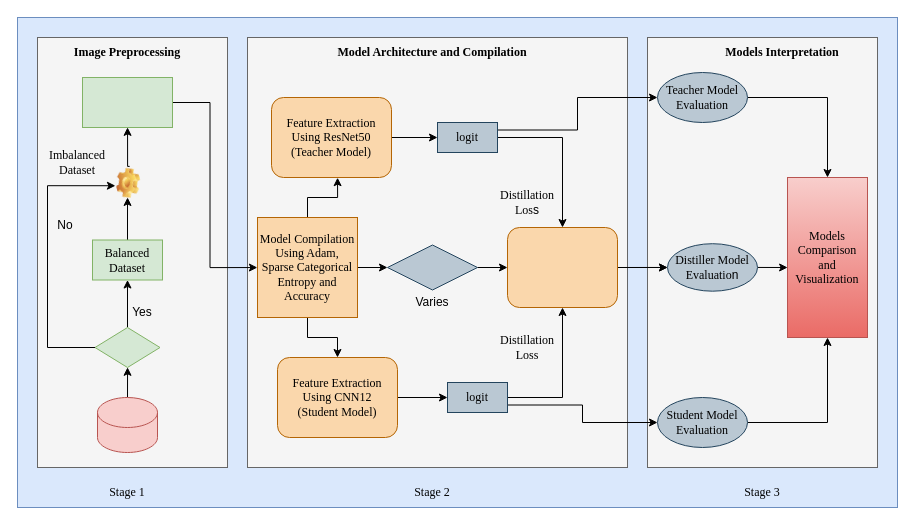
Image size: 915x525. Some labels were removed from this diagram. The shapes that lost their labels are listed below. From the top down, each one's centre as x and y in pixels, then its label:
the point at 127,102: Image Transformation
the point at 432,267: Temperature
the point at 562,267: Distiller Model Alpha = 0.1
the point at 127,347: Augmentation ?
the point at 127,424: Database
